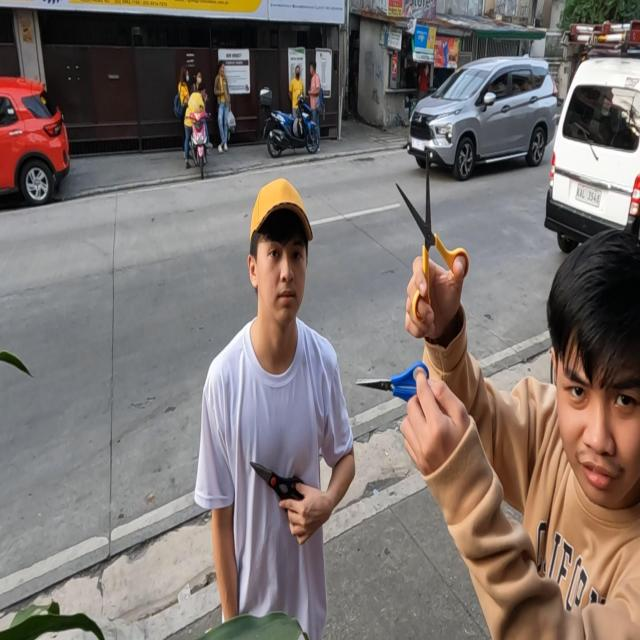scissor: (395, 146, 470, 324), (355, 359, 430, 409), (249, 459, 307, 520)
